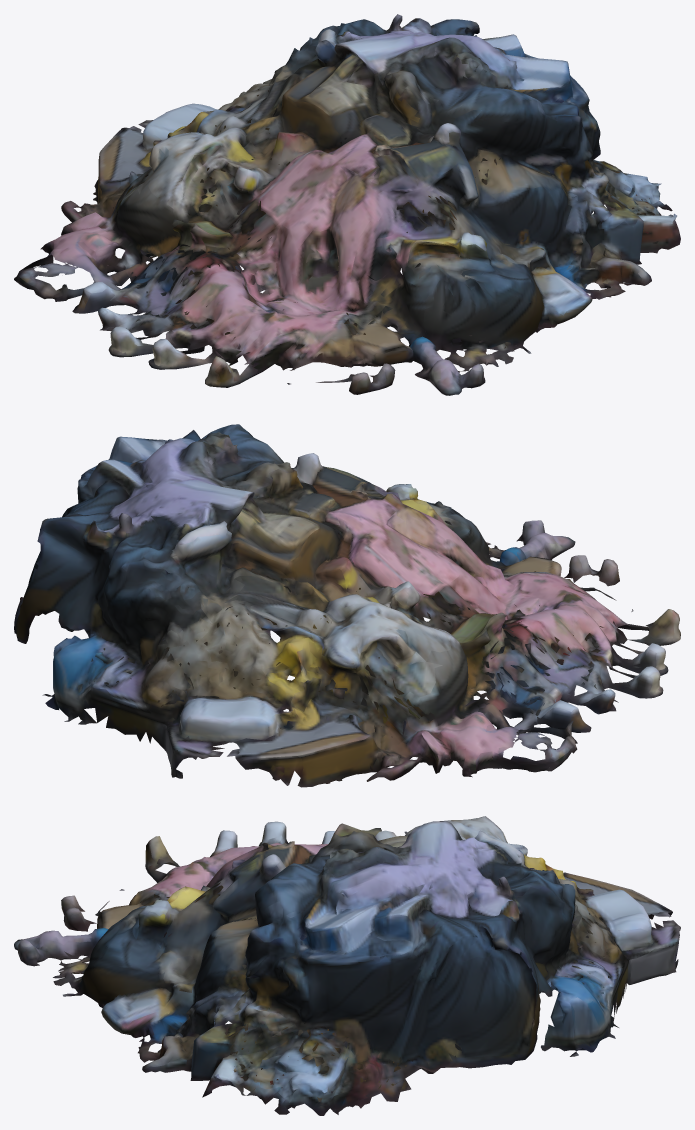
File: doll_trashpile.glb
3 views of the same model, one above another, from view 1: azimuth 30°, elevation 25°; view 2: azimuth 150°, elevation 25°; view 3: azimuth 270°, elevation 25° (orthographic). The views are drawn at different scales.
Visible parts, largest first — view 1: TrashPile; view 2: TrashPile; view 3: TrashPile.
Part boxes in pixels (box(x1,y1,x2,y2)): TrashPile: box(14, 14, 680, 395); TrashPile: box(14, 424, 680, 787); TrashPile: box(14, 816, 680, 1115).
Bounding box in the file's own units: 2.97 × 0.9241 × 3.
1 material, 1 textured.
